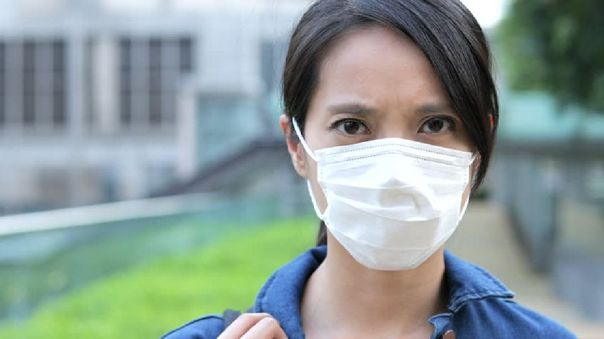with_mask: (277, 5, 511, 278)
